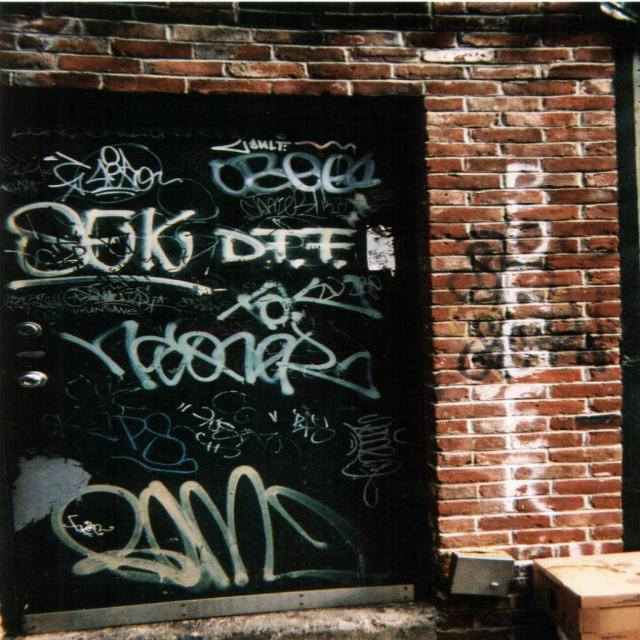table: (501, 555, 640, 636)
